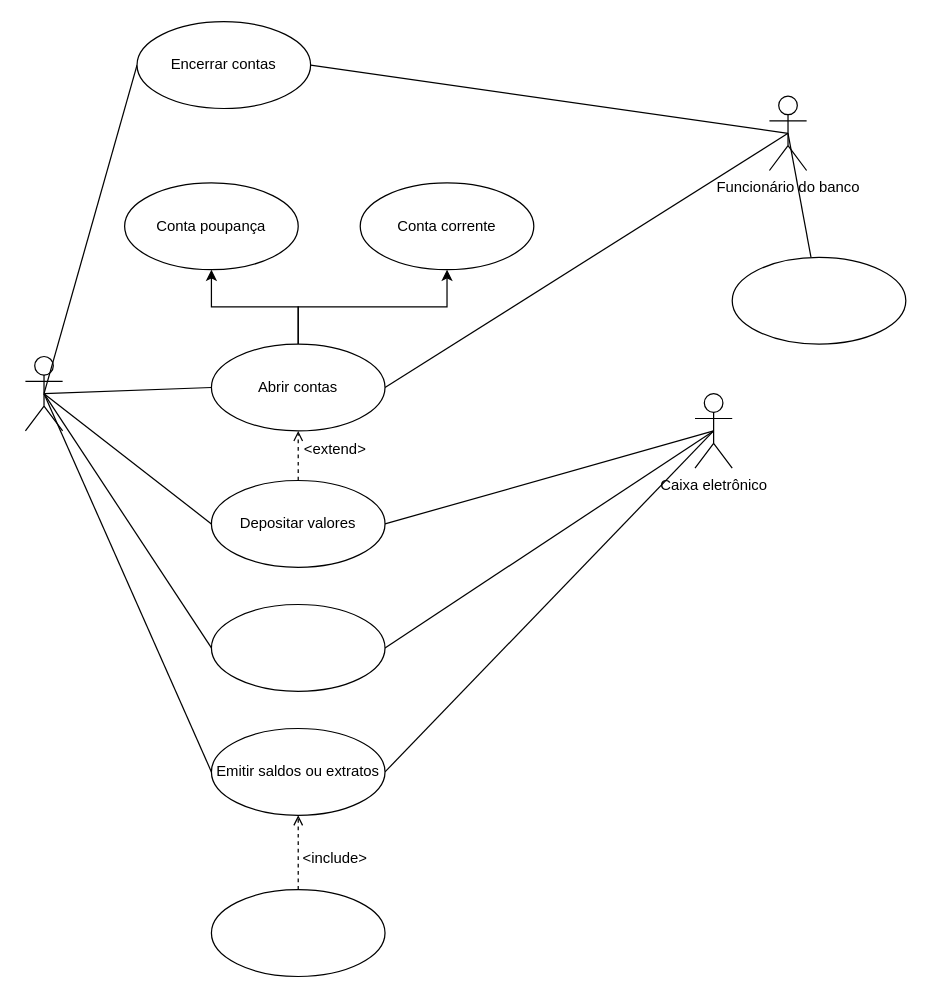
Some shapes in this 928 by 998 pixel diagram are drawn without their labels. Each missing label, with the centre of its shape:
"Cliente" belongs at point 43,393.
"Informar dados" belongs at point 297,932.
"Registrar ou alterar cadastro" belongs at point 818,300.
"Sacar valores" belongs at point 297,647.
